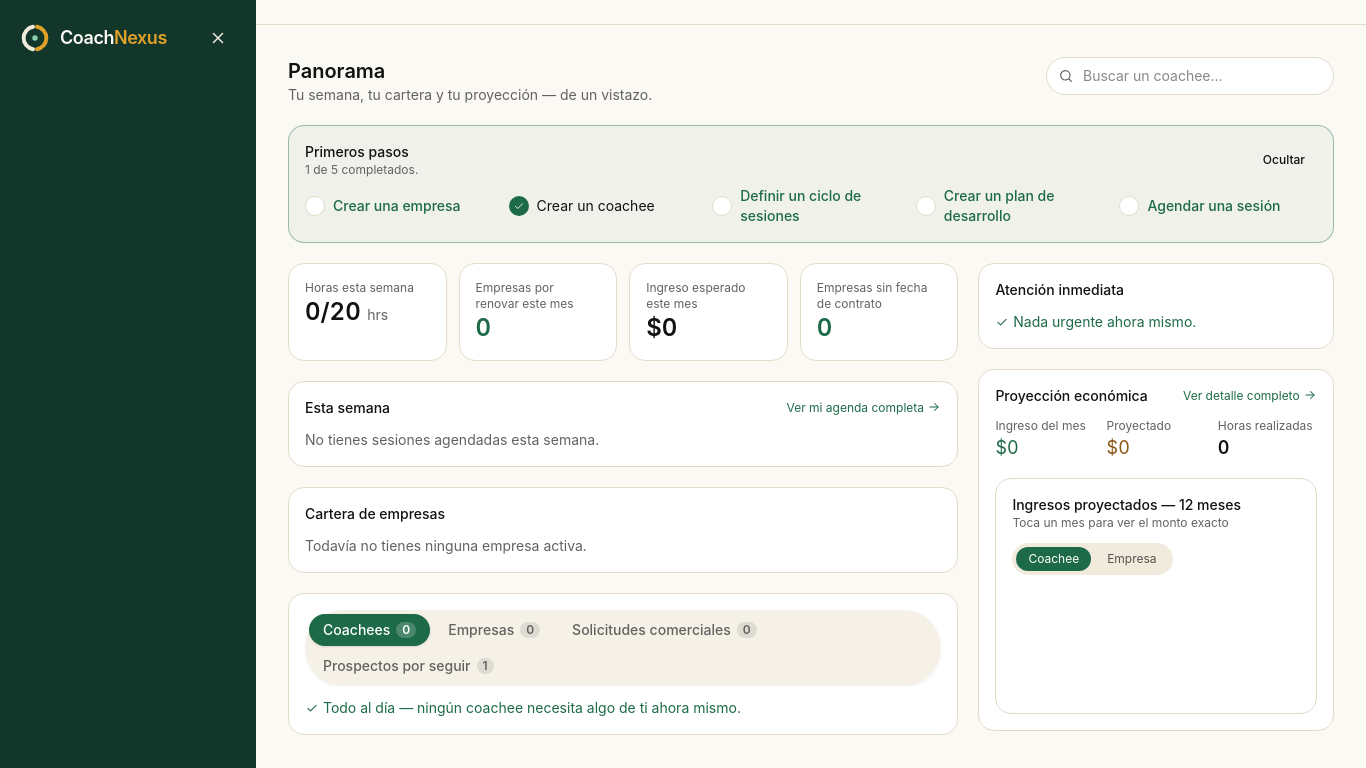
DashboardView › Prospectos por seguir tab › shows a prospecto whose próximo seguimiento is overdue
What coordinates should you click on to do the following:
click the tab "Prospectos por seguir 1"
I would click on:
 (408, 666)
Its box is [309,650,508,682].
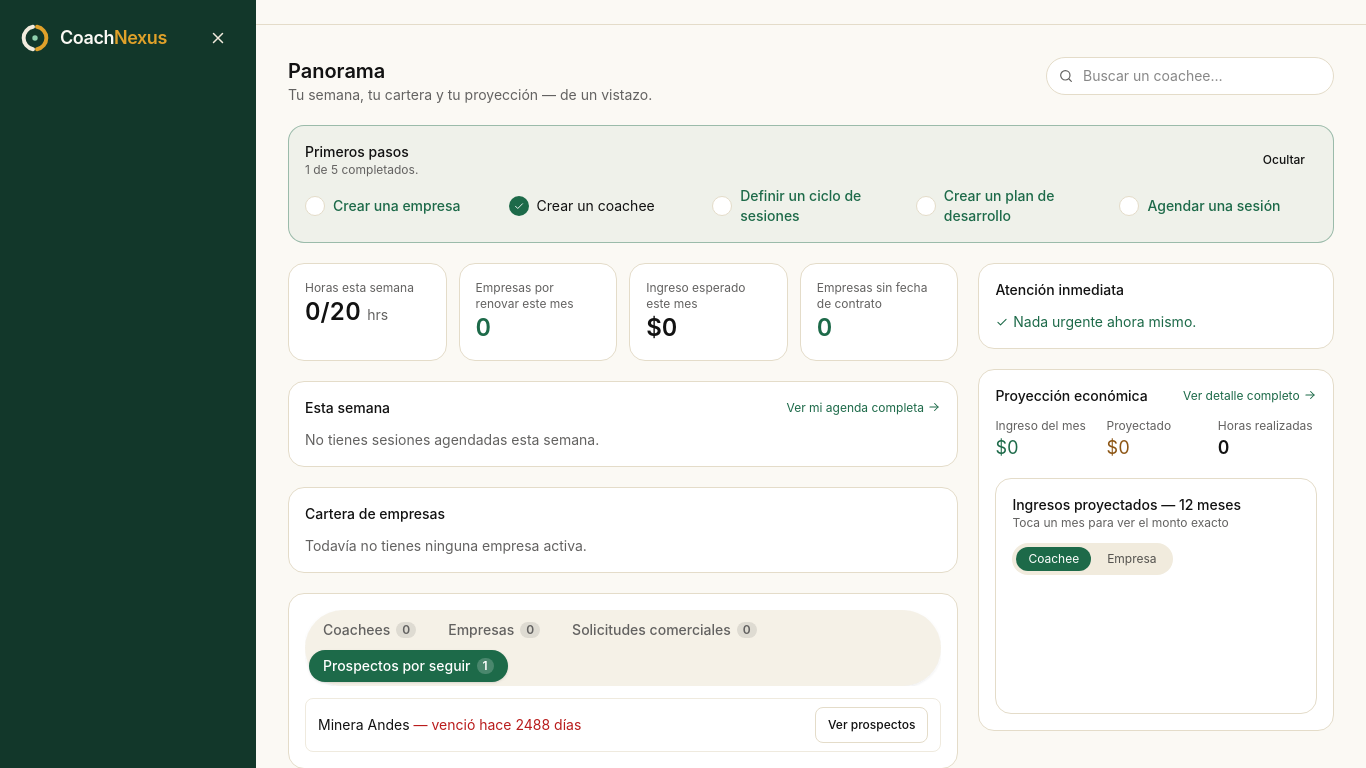
Check: the text "Minera Andes" is shown, box [318,716,414,733]
Check: the text "venció hace" is shown, box [414,716,581,733]
